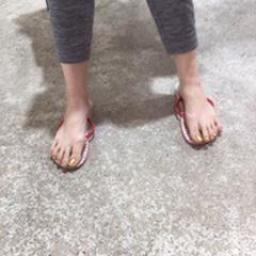Front View -Both Feet-: (41, 50, 225, 174)
